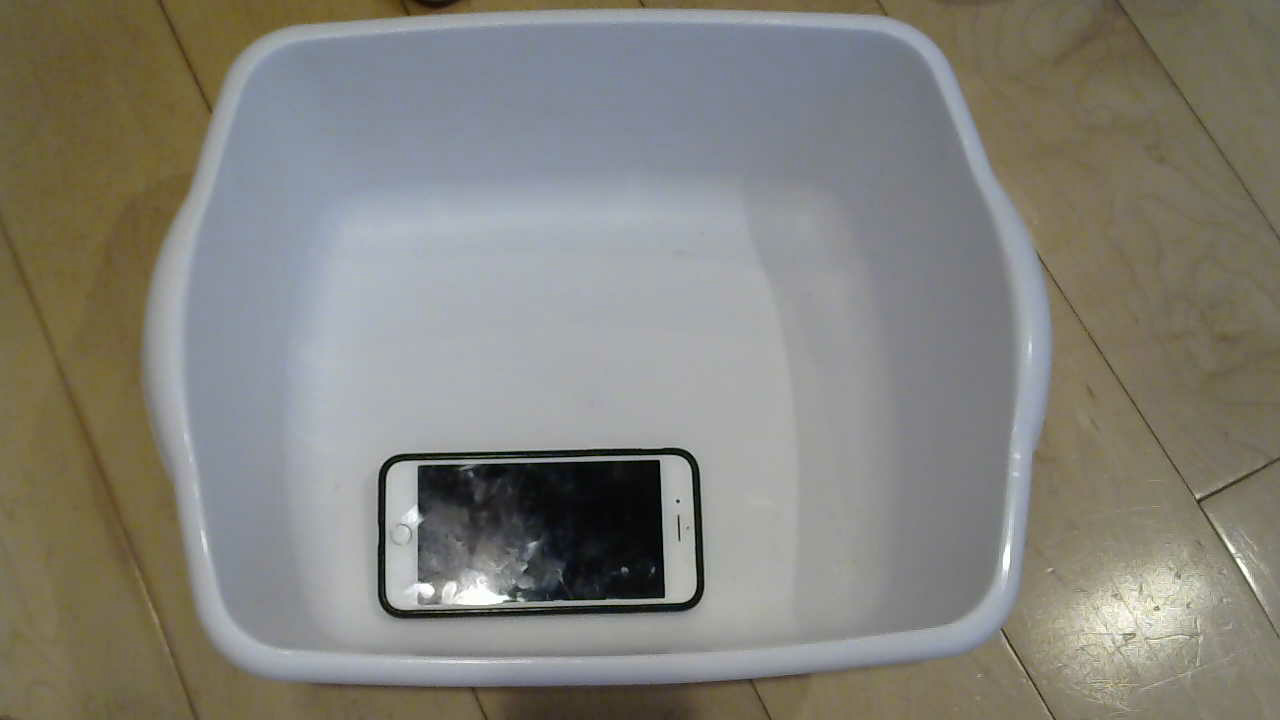phone: (374, 453, 706, 627)
